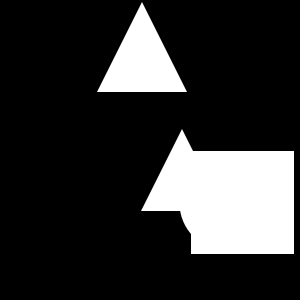circle: (191, 151, 294, 254)
rectangle: (180, 156, 274, 250)
triangle: (97, 2, 187, 92), (141, 129, 223, 211)
